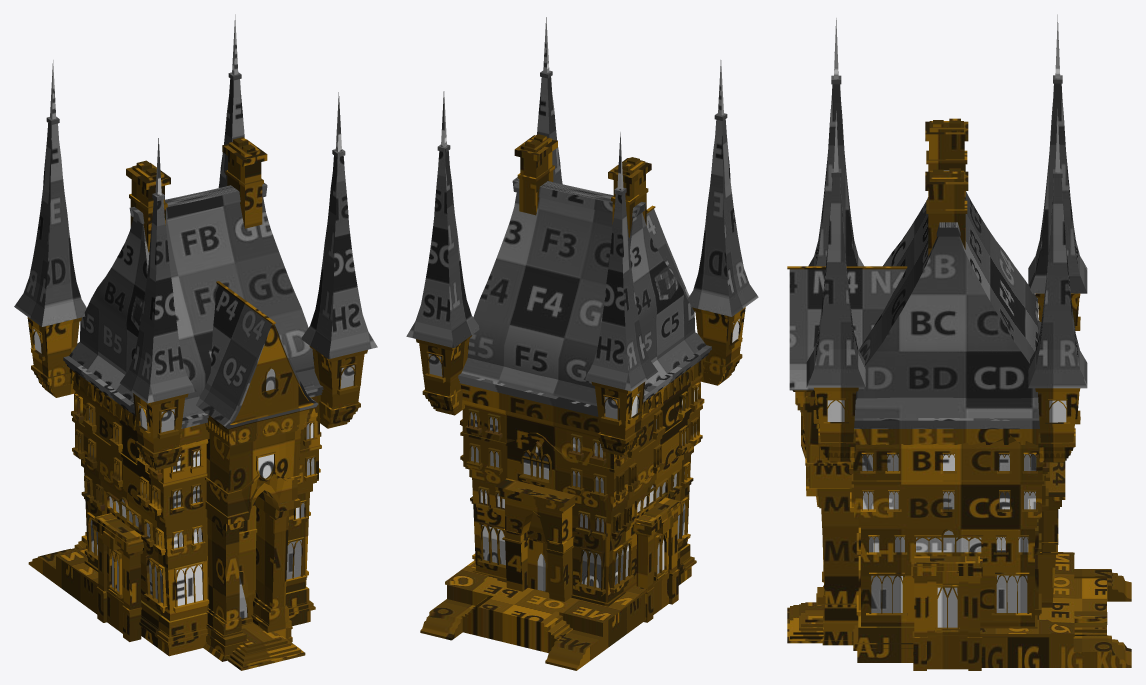
File: House2.fbx
3 renders of one model, left to right at view 1: azimuth 30°, elevation 25°; view 2: azimuth 150°, elevation 25°; view 3: azimuth 270°, elevation 25°, orthographic. The views are drawn at different scales.
Visible parts, largest first — view 1: MainBody, FrontBody, Tower4, Tower5, Tower7, Side3, Chimney3, BackStairs, FrontStairs, Chimney5, Tower6; view 2: MainBody, BackStairs, Tower7, Tower6, Tower4, BackBody, Side3, Chimney3, Chimney5, Tower5, BackDoor, FrontBody; view 3: MainBody, FrontBody, BackStairs, Tower6, Tower5, Side2, Tower7, Tower4, Chimney3, BackBody, Chimney5, FrontStairs.
Boxes of the visible parts, bbox=[...] form: MainBody: bbox=[63, 183, 323, 656]; FrontBody: bbox=[196, 281, 318, 661]; Tower4: bbox=[120, 138, 196, 470]; Tower5: bbox=[301, 92, 377, 428]; Tower7: bbox=[14, 60, 86, 397]; Side3: bbox=[92, 513, 143, 641]; Chimney3: bbox=[222, 137, 267, 228]; BackStairs: bbox=[28, 532, 98, 614]; FrontStairs: bbox=[227, 623, 305, 670]; Chimney5: bbox=[126, 160, 170, 252]; Tower6: bbox=[218, 14, 244, 187]; MainBody: bbox=[458, 177, 711, 606]; BackStairs: bbox=[420, 560, 646, 670]; Tower7: bbox=[583, 132, 657, 456]; Tower6: bbox=[406, 91, 479, 415]; Tower4: bbox=[687, 60, 758, 385]; BackBody: bbox=[495, 478, 577, 601]; Side3: bbox=[633, 497, 682, 622]; Chimney3: bbox=[514, 134, 557, 215]; Chimney5: bbox=[608, 157, 651, 237]; Tower5: bbox=[537, 17, 562, 184]; BackDoor: bbox=[527, 513, 548, 592]; FrontBody: bbox=[646, 205, 694, 311]; MainBody: bbox=[849, 170, 1049, 662]; FrontBody: bbox=[787, 266, 907, 645]; BackStairs: bbox=[980, 552, 1131, 667]; Tower6: bbox=[1028, 109, 1087, 462]; Tower5: bbox=[806, 111, 865, 461]; Side2: bbox=[911, 556, 982, 670]; Tower7: bbox=[1028, 14, 1087, 330]; Tower4: bbox=[808, 18, 863, 266]; Chimney3: bbox=[925, 168, 968, 255]; BackBody: bbox=[1035, 461, 1065, 607]; Chimney5: bbox=[925, 118, 968, 200]; FrontStairs: bbox=[787, 602, 824, 643].
Bounding box in the file's own units: 14.04 × 30.95 × 17.03.
3 materials, 3 textured.
